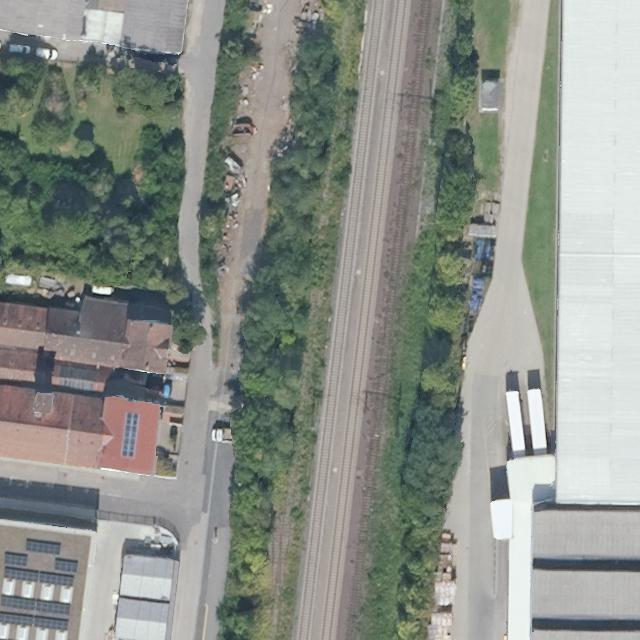PV: (1, 609, 72, 634), (1, 593, 73, 617), (0, 565, 78, 587), (23, 535, 64, 557), (51, 556, 80, 575), (1, 550, 31, 568)
